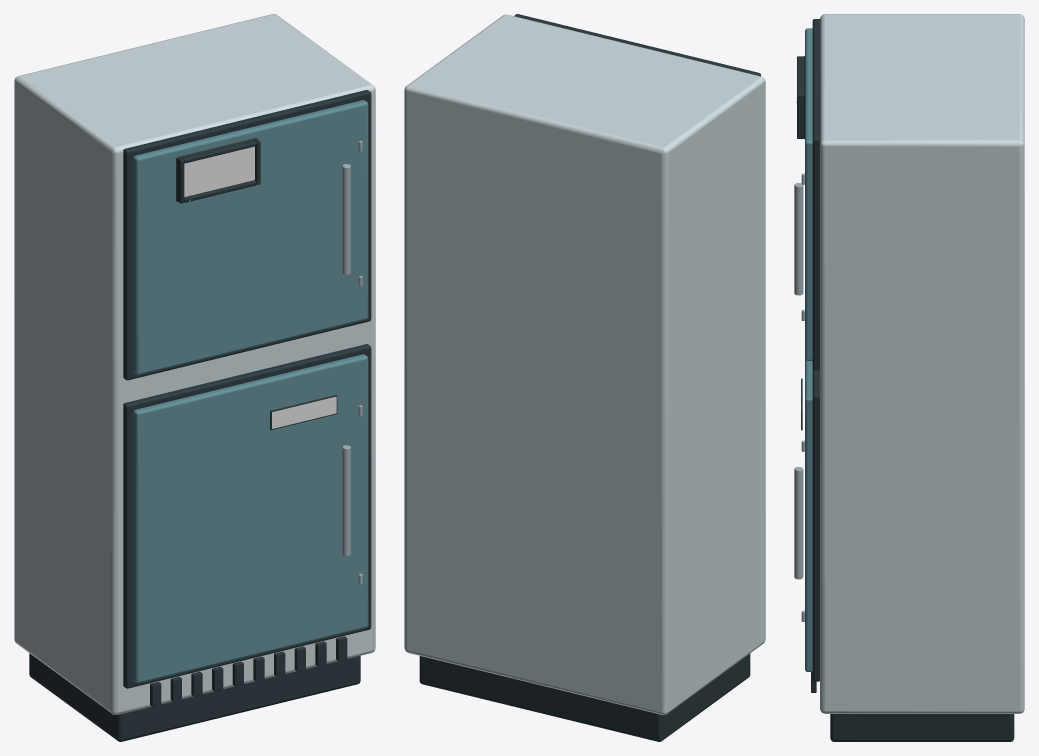
The model's file is CP_ColdStorage.fbx.
3 views of the same model, side by side, from view 1: azimuth 30°, elevation 25°; view 2: azimuth 150°, elevation 25°; view 3: azimuth 270°, elevation 25° (orthographic).
Parts seen in each view (by area): view 1: CP_ColdStorage; view 2: CP_ColdStorage; view 3: CP_ColdStorage.
Part boxes in pixels (left/top/right/bottom): CP_ColdStorage: left=14, top=14, right=375, bottom=741; CP_ColdStorage: left=404, top=14, right=765, bottom=741; CP_ColdStorage: left=794, top=14, right=1024, bottom=741.
Bounding box in the file's own units: 102 × 222 × 76.5.
